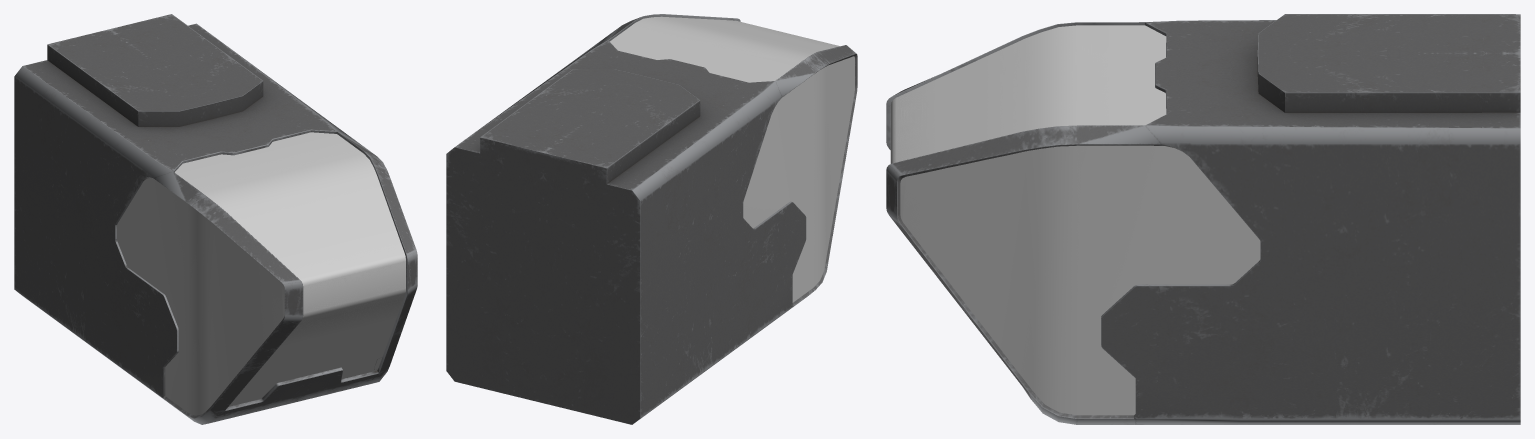
Rendered from Cockpit Base.fbx.
The picture shows the model from 3 angles, left to right: view 1: azimuth 30°, elevation 25°; view 2: azimuth 150°, elevation 25°; view 3: azimuth 270°, elevation 25°; orthographic projection. The views are drawn at different scales.
Parts seen in each view (by area): view 1: cockpit_Base; view 2: cockpit_Base; view 3: cockpit_Base.
Boxes of the visible parts, x1=… form: cockpit_Base: x1=14, y1=14, x2=417, y2=424; cockpit_Base: x1=446, y1=14, x2=857, y2=424; cockpit_Base: x1=886, y1=14, x2=1520, y2=424.
Size of the model in its own units: 171 by 211 by 383.
